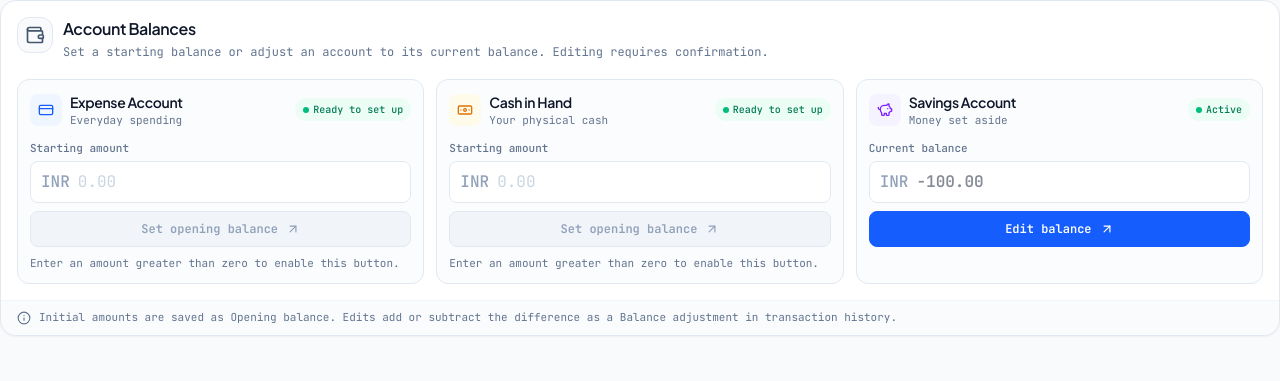
Test: Opening balances › saves the selected account and amount and locks entry for populated accounts
expect the number field named "Savings Account opening balance" is disabled: met, box [916, 162, 1239, 202]
Type "250.50" into the number field named "Cash in Hand opening balance" at (658, 182), box [497, 162, 820, 202]
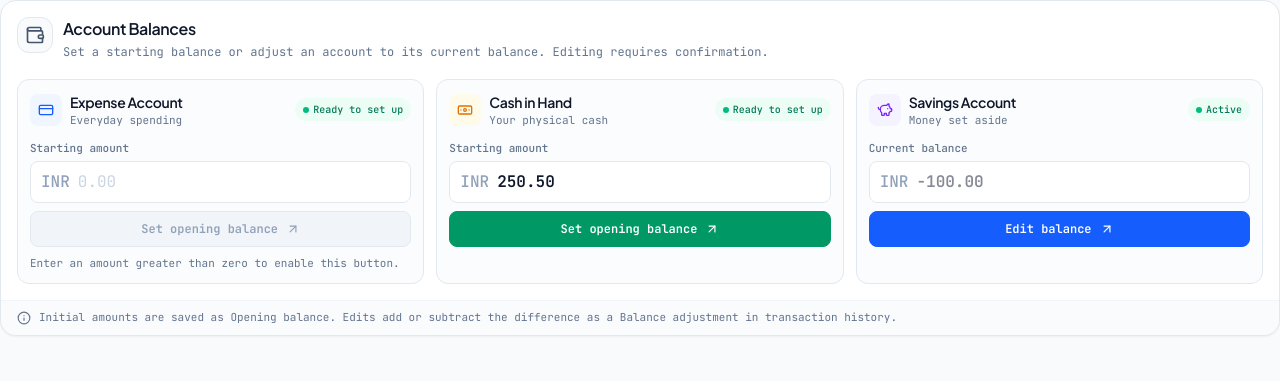
Submit the form named "Cash in Hand opening balance", box [436, 78, 844, 284]
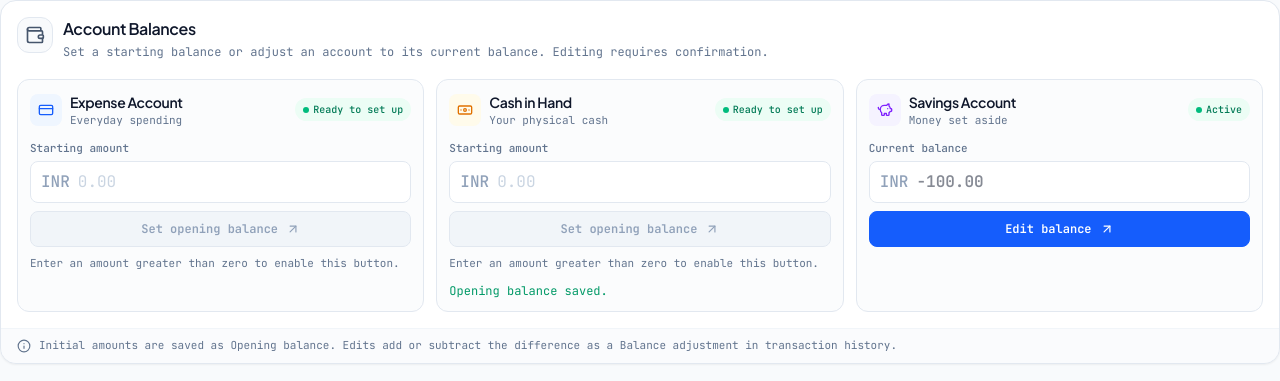
expect the message reads "Opening balance saved.": met, box [449, 283, 608, 299]
